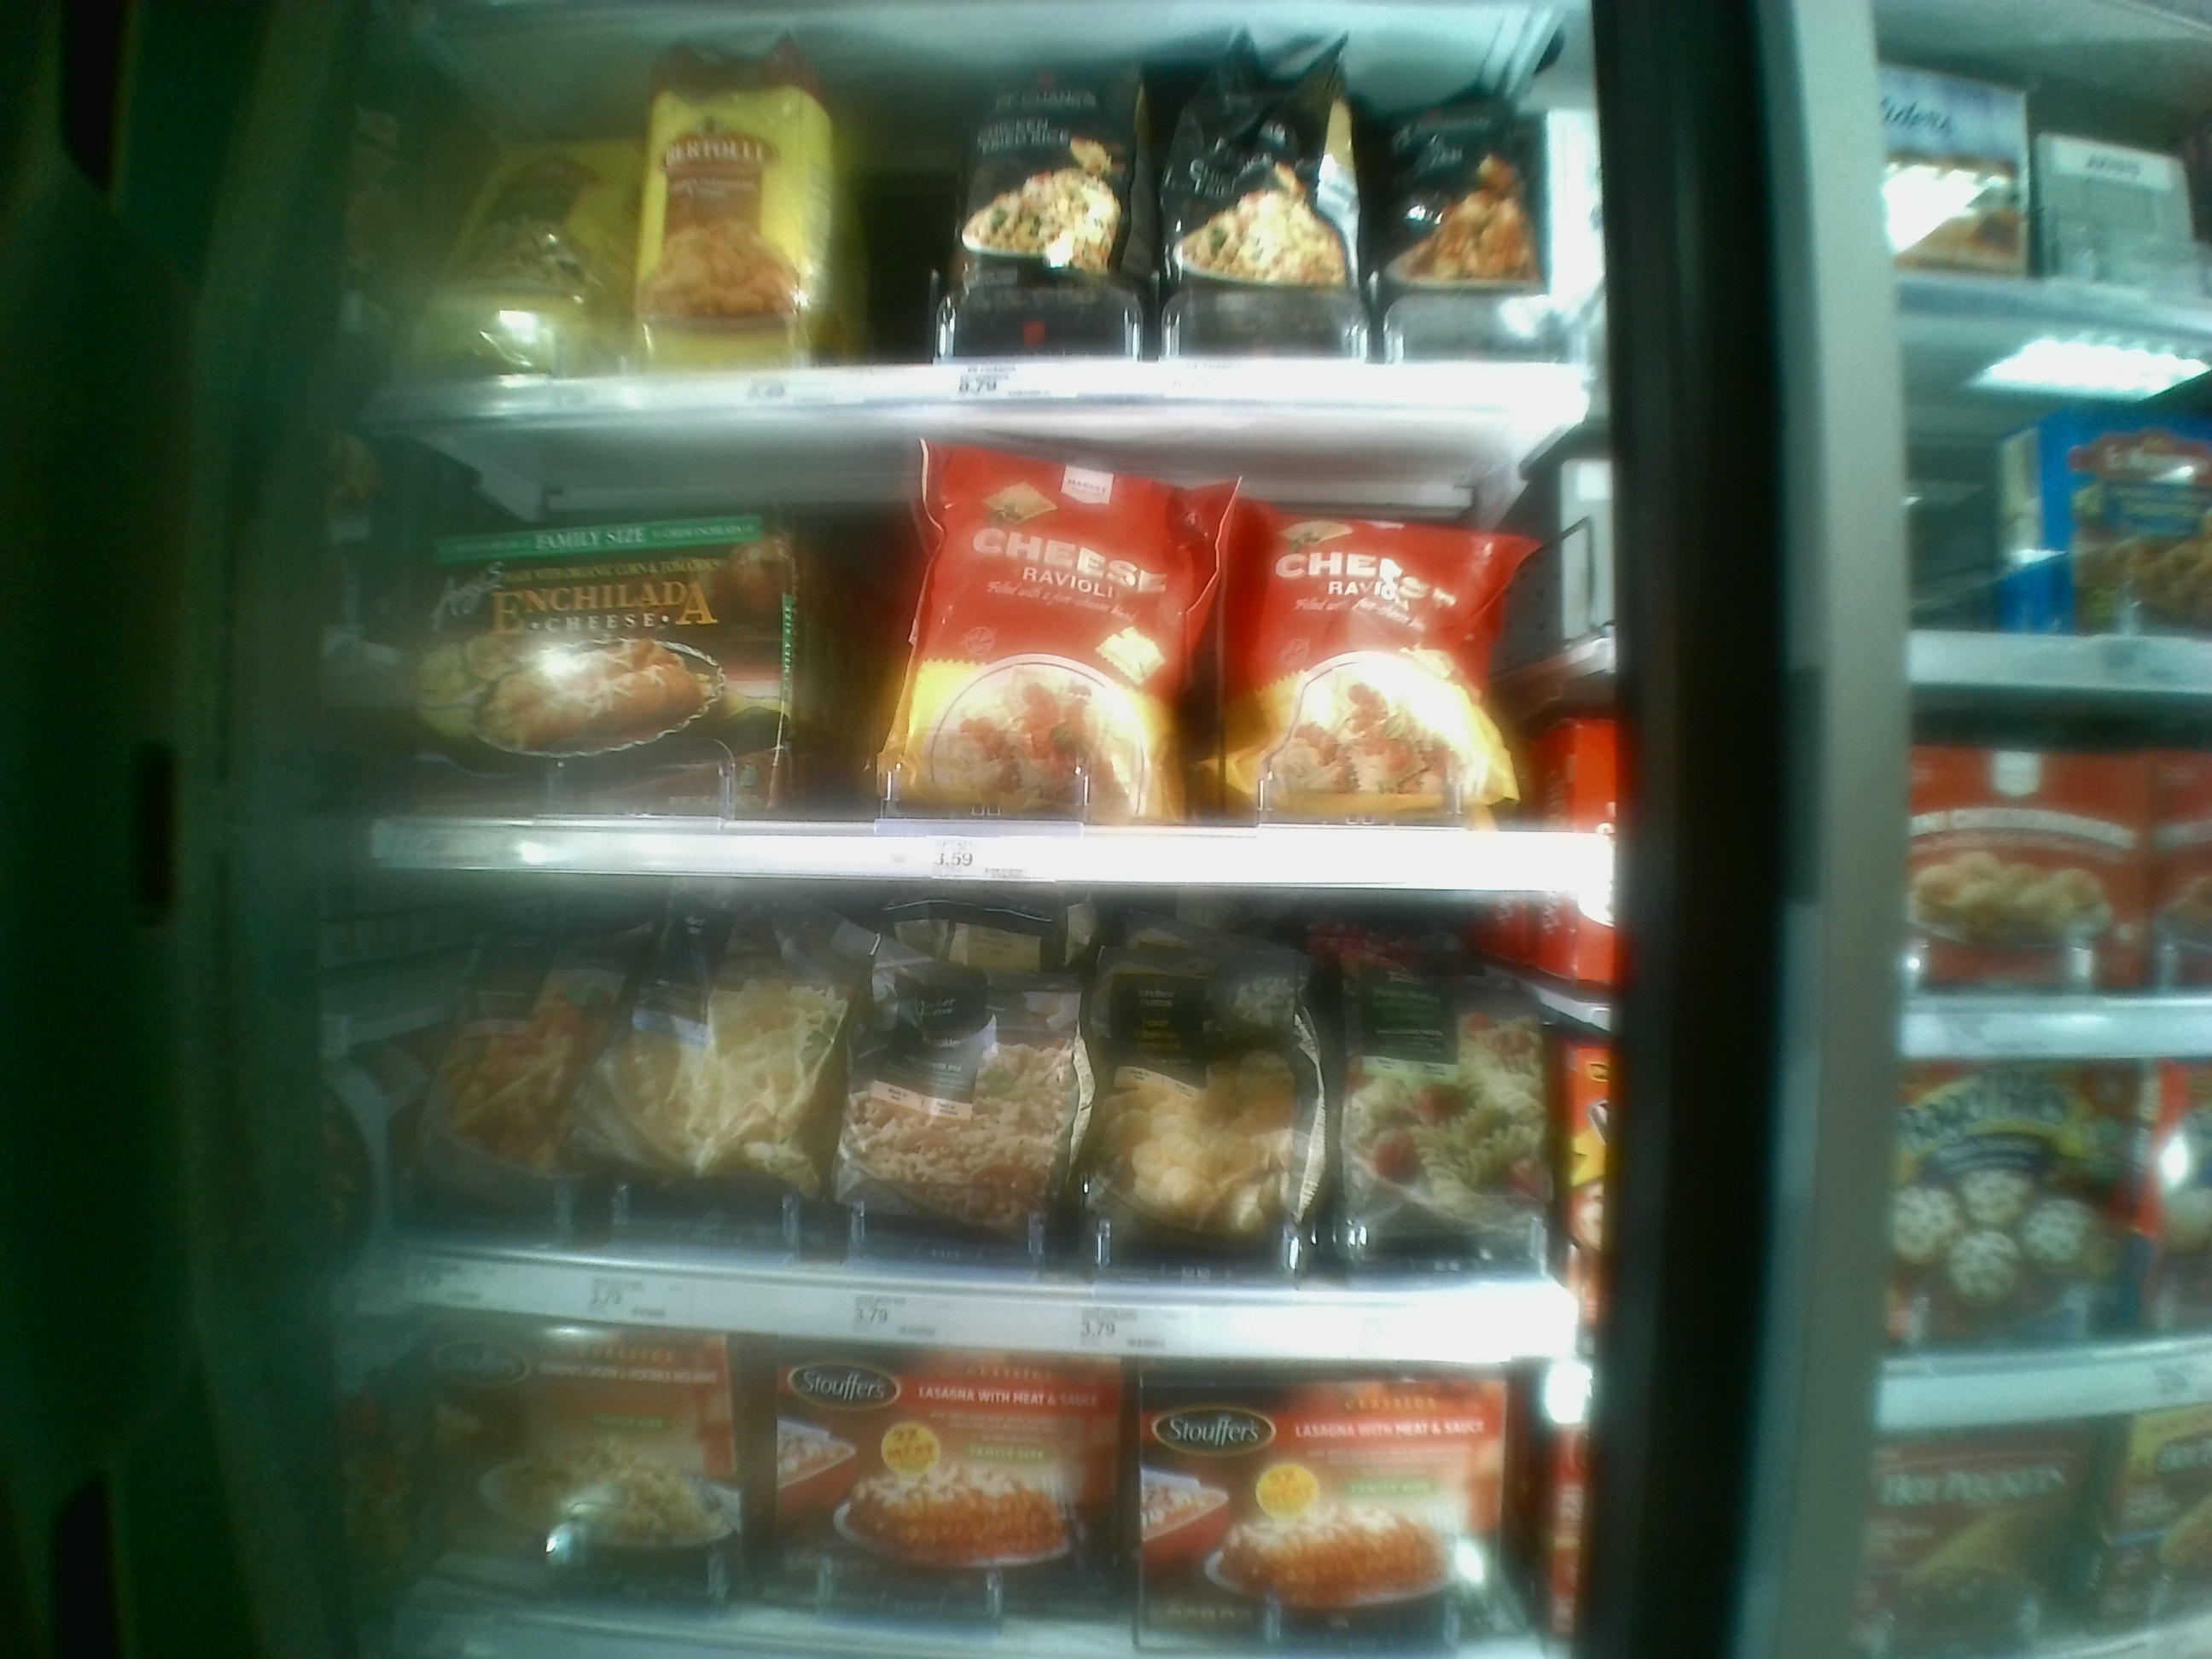frozen-food-shelf: (357, 415, 1601, 889), (374, 896, 1585, 1366)
